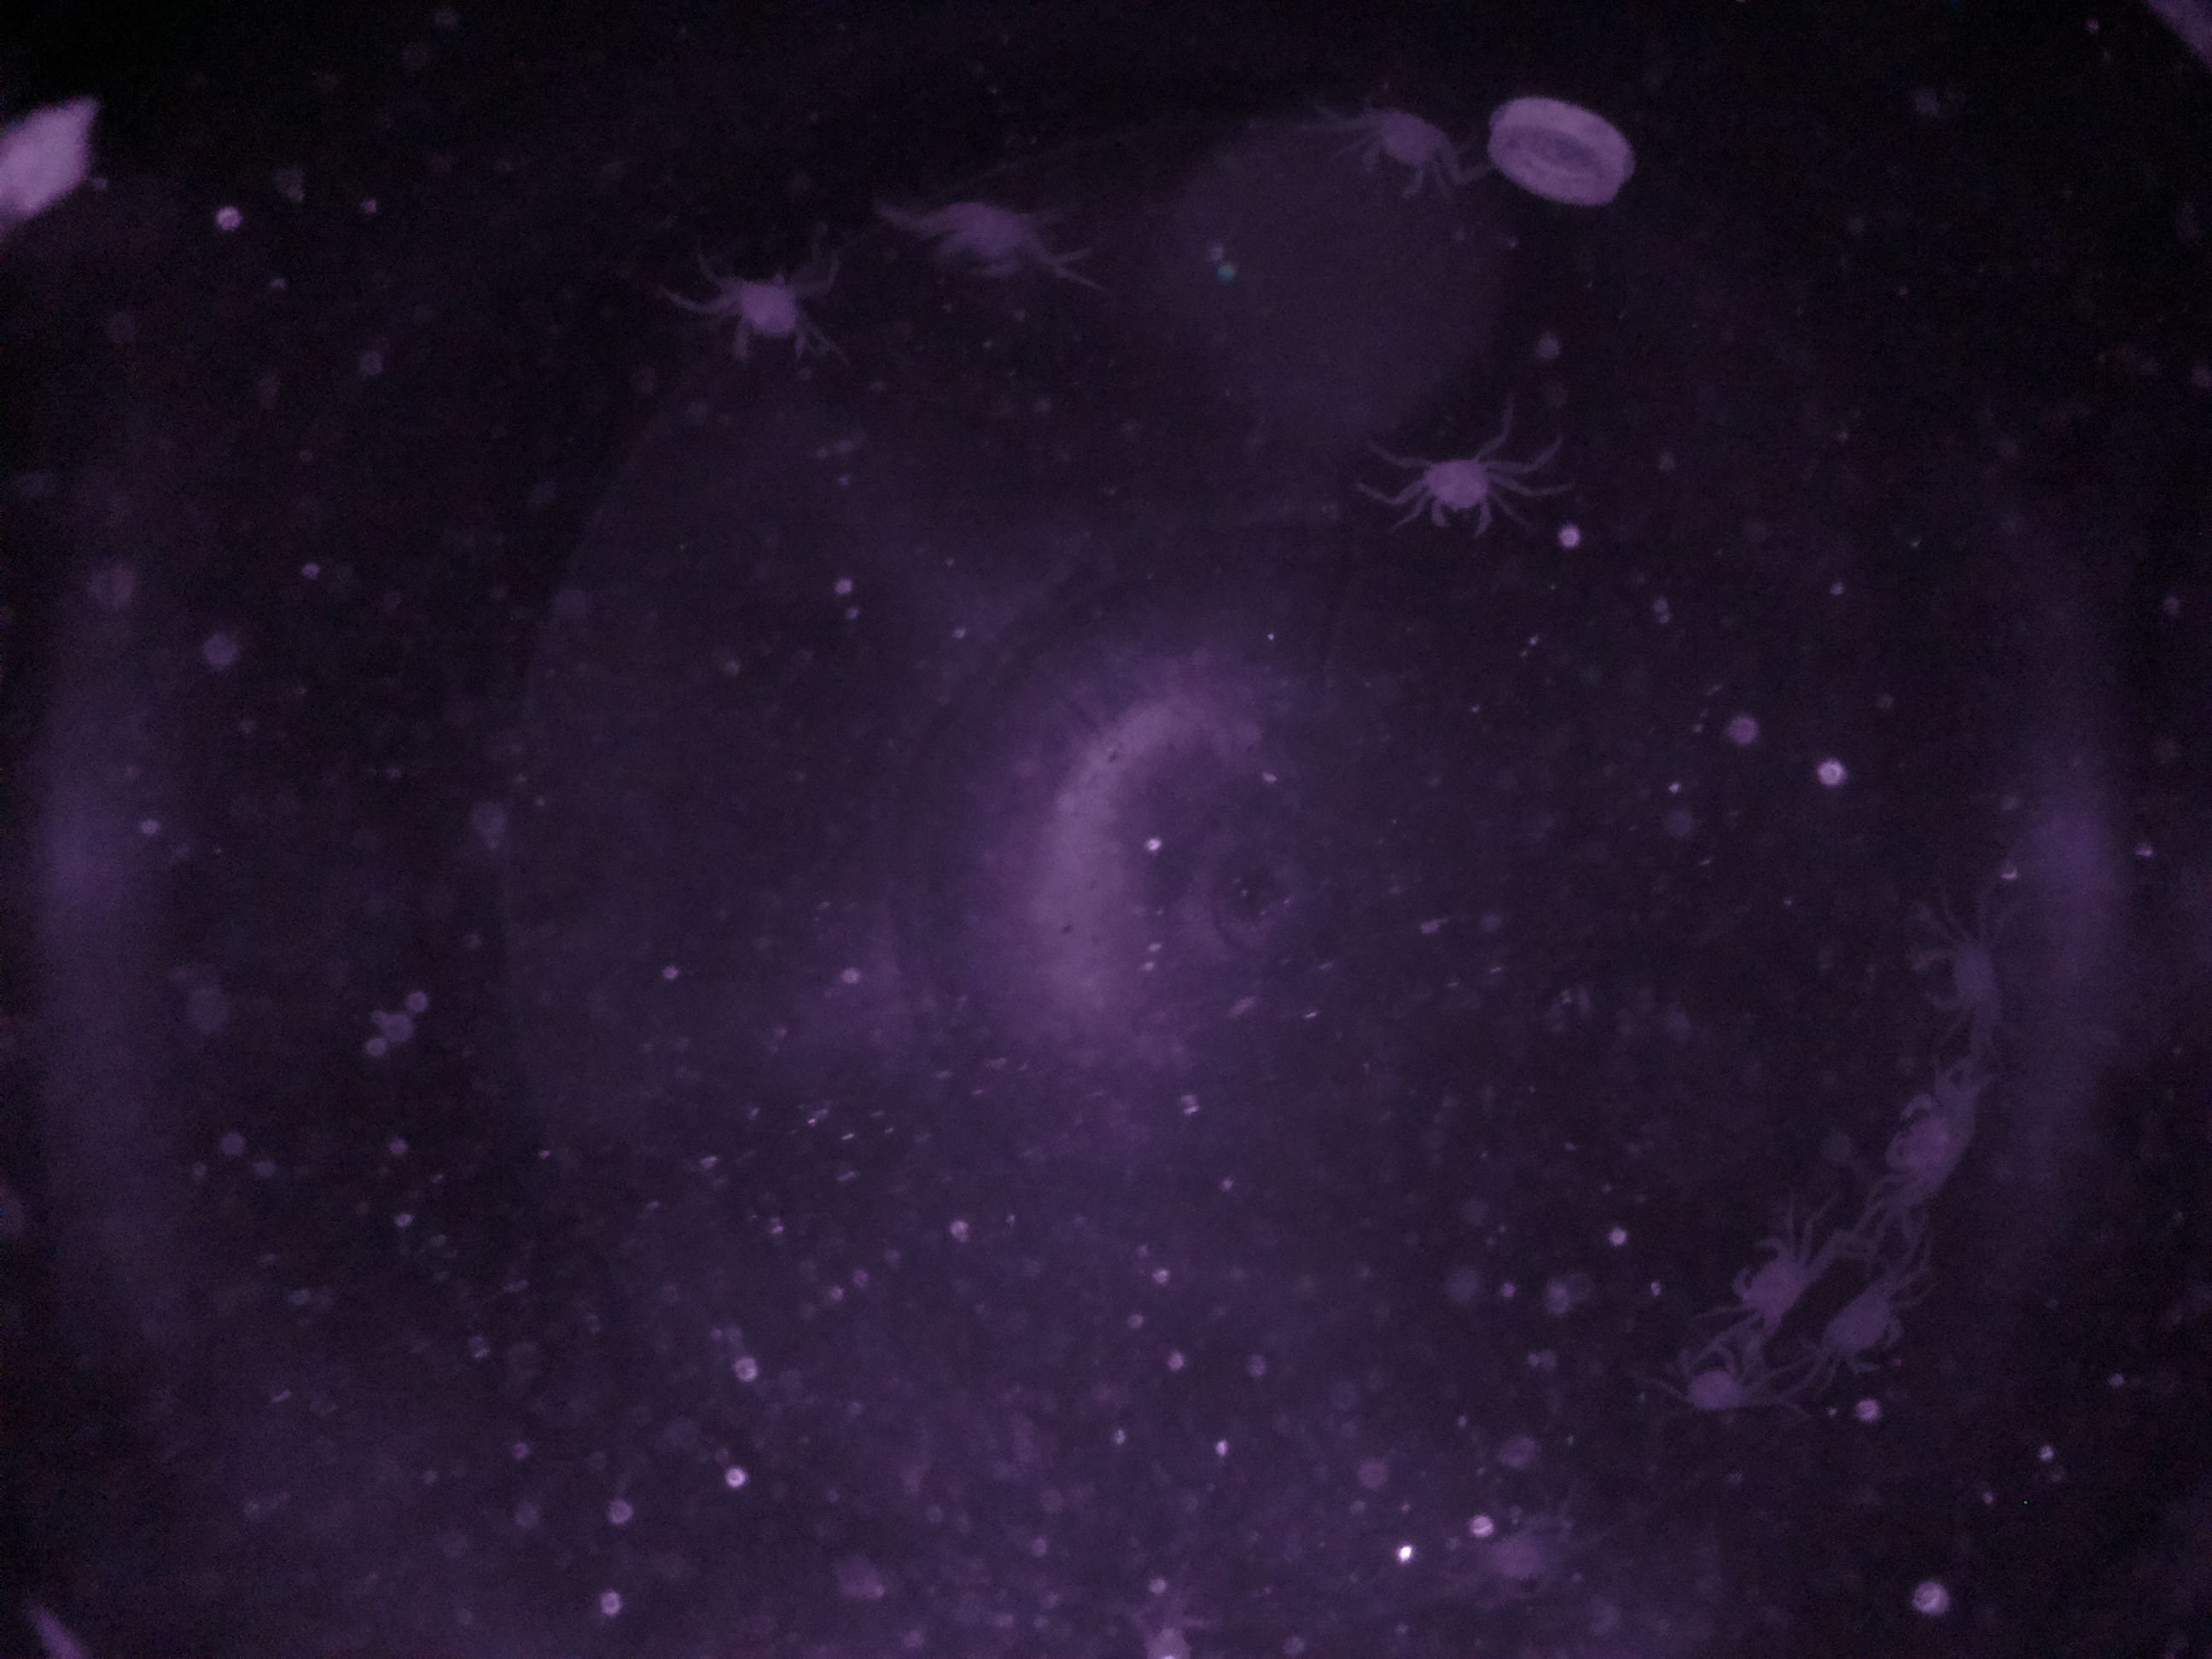Crab: (1857, 1077, 1989, 1218), (1397, 418, 1512, 552), (1897, 925, 2031, 1032), (714, 253, 831, 373), (1357, 91, 1456, 218), (1817, 1277, 1925, 1384), (1731, 1225, 1820, 1338)
